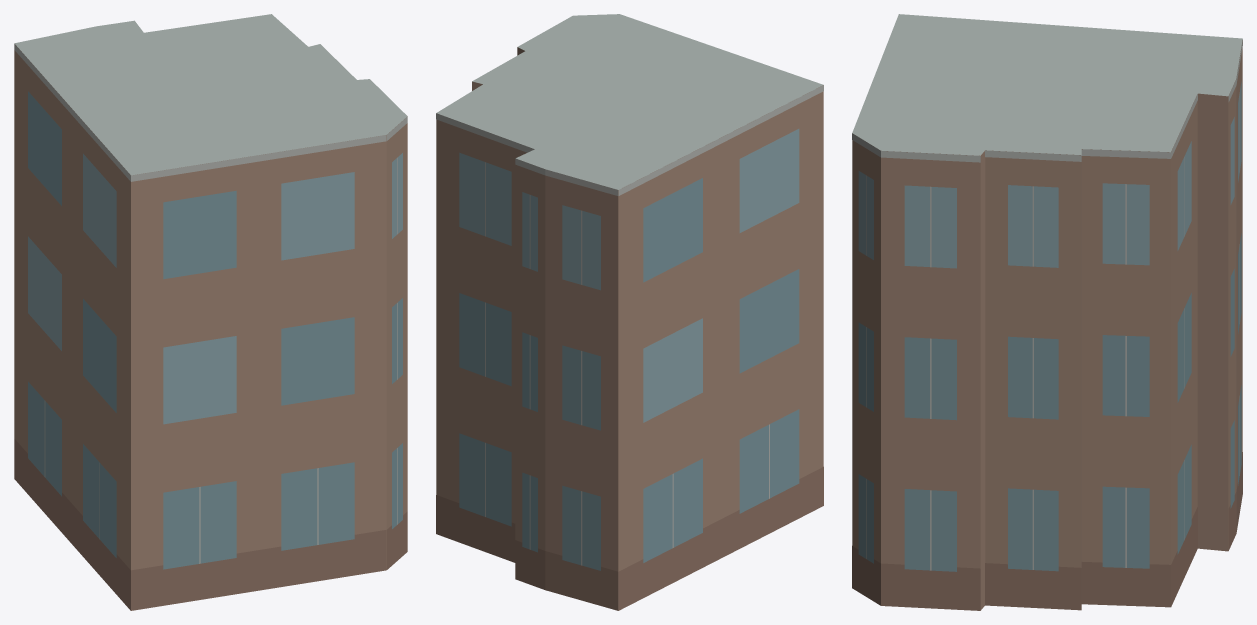
Rendered from survey-upis-32493918.glb.
The picture shows the model from 3 angles, left to right: view 1: azimuth 30°, elevation 25°; view 2: azimuth 150°, elevation 25°; view 3: azimuth 270°, elevation 25°; orthographic projection. The views are drawn at different scales.
Parts seen in each view (by area): view 1: survey-upis-32493918.tmp; view 2: survey-upis-32493918.tmp; view 3: survey-upis-32493918.tmp.
Part boxes in pixels (left/top/right/bottom): survey-upis-32493918.tmp: left=14, top=14, right=407, bottom=610; survey-upis-32493918.tmp: left=436, top=14, right=823, bottom=610; survey-upis-32493918.tmp: left=852, top=14, right=1242, bottom=610.
Bounding box in the file's own units: 10.97 × 16.4 × 12.77.
